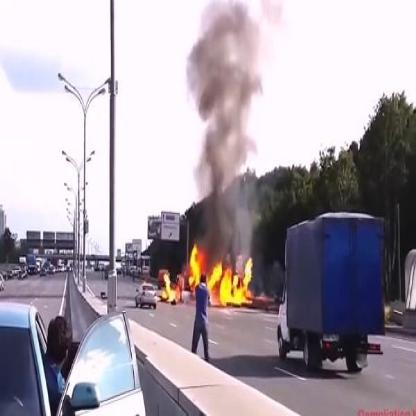fire: (187, 240, 257, 308), (158, 266, 181, 305)
